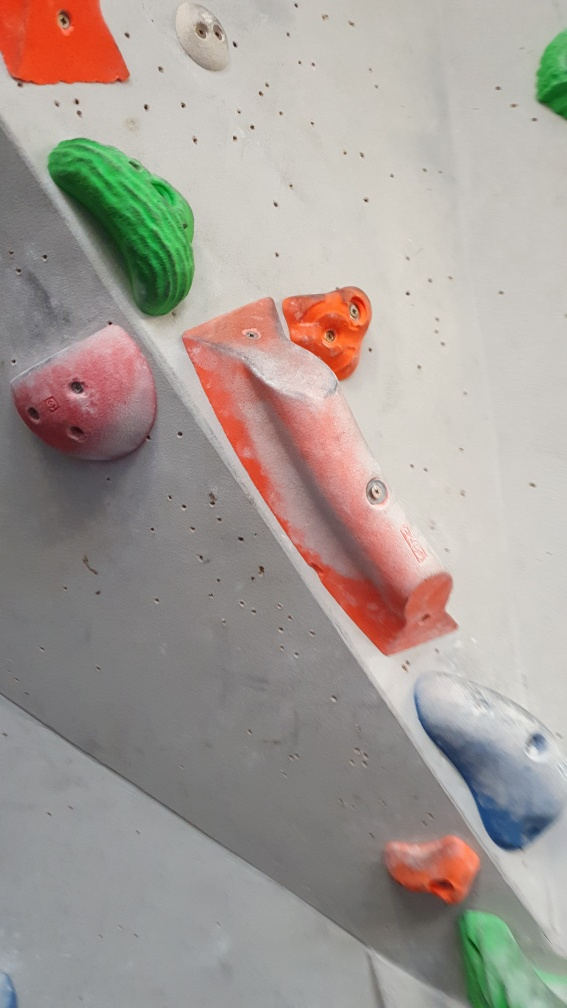Jug: (46, 135, 197, 320)
Pinch: (178, 294, 459, 657), (408, 660, 567, 856)
Sloper: (5, 314, 161, 468)
